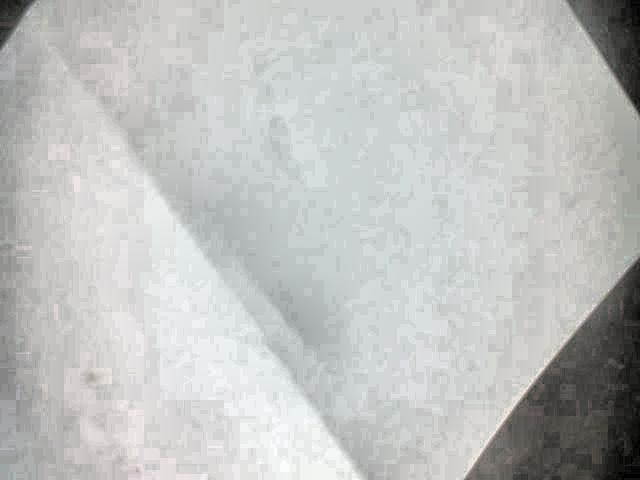Paper: (1, 0, 640, 478)
